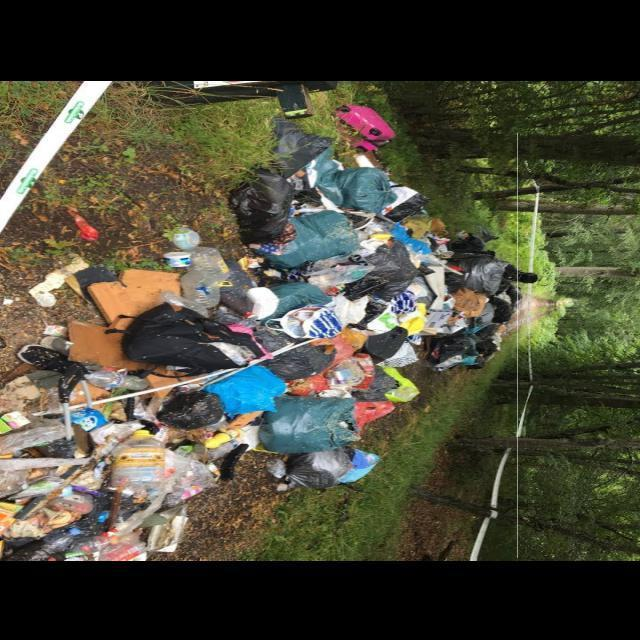Trashbag: (114, 308, 269, 377), (229, 168, 299, 248), (359, 242, 435, 304), (266, 117, 341, 168), (444, 250, 512, 300), (282, 445, 354, 492), (158, 389, 228, 433), (267, 342, 333, 387)
